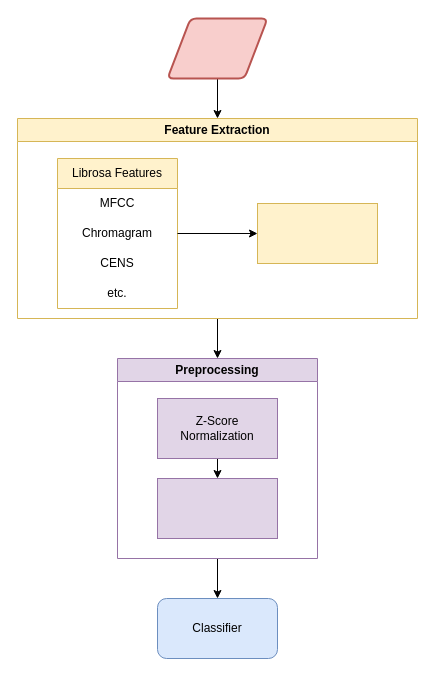
The diagram is 435 pixels wide and 676 high, and some of its shapes have lost their labels. Here are the shapes that lost their labels. From the top down, the centre of each, then its label:
At (217,48): "Raw Data".
At (317,233): "Summary Statistics".
At (217,508): "PCA".
